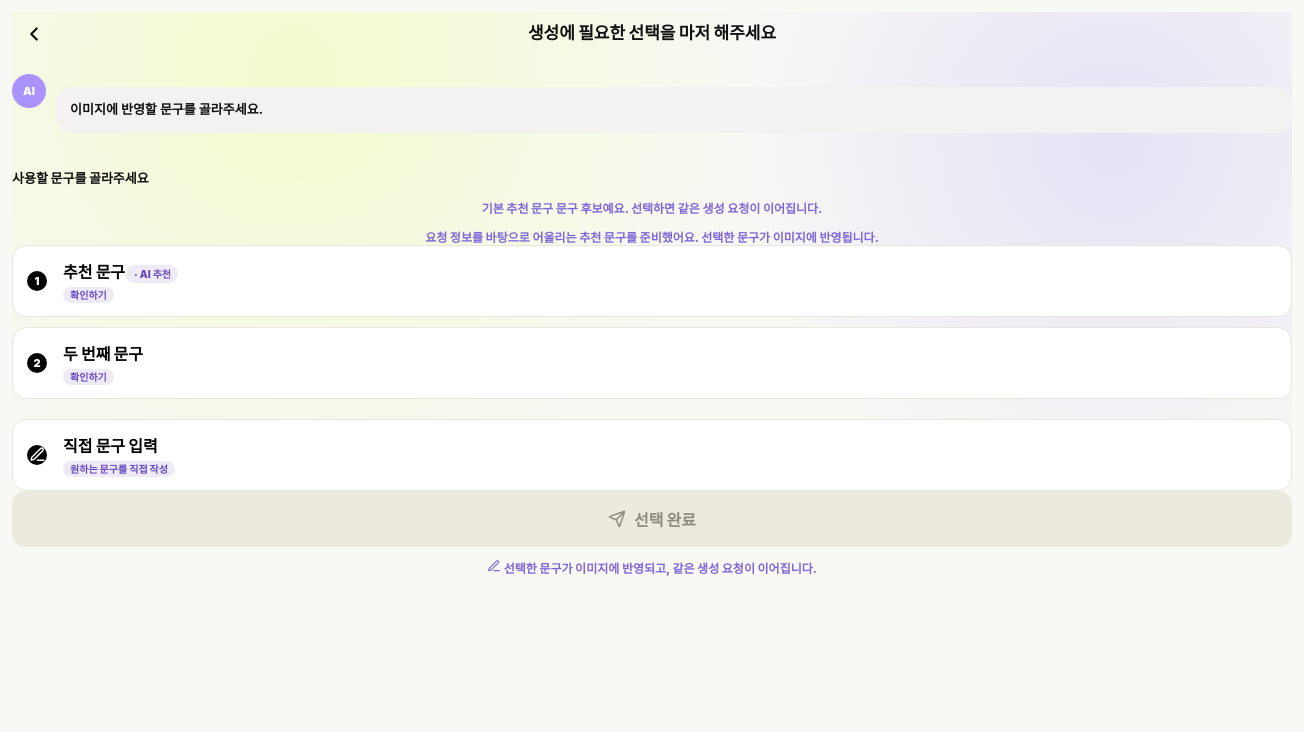
Test: GenerationJobInterruptStep › requires an explicit 선택 완료 click and does not pre-select the recommendation
Later steps or results of the test are not shown.
Check: the button "선택 완료" is disabled, box [12, 490, 1292, 546]
# Clicking a card selects locally but does not submit.
What coordinates should you click on to do the following:
click the button with aria-label "두 번째 문구 선택"
I would click on:
 (103, 354)
Its box is [12, 326, 1292, 398].
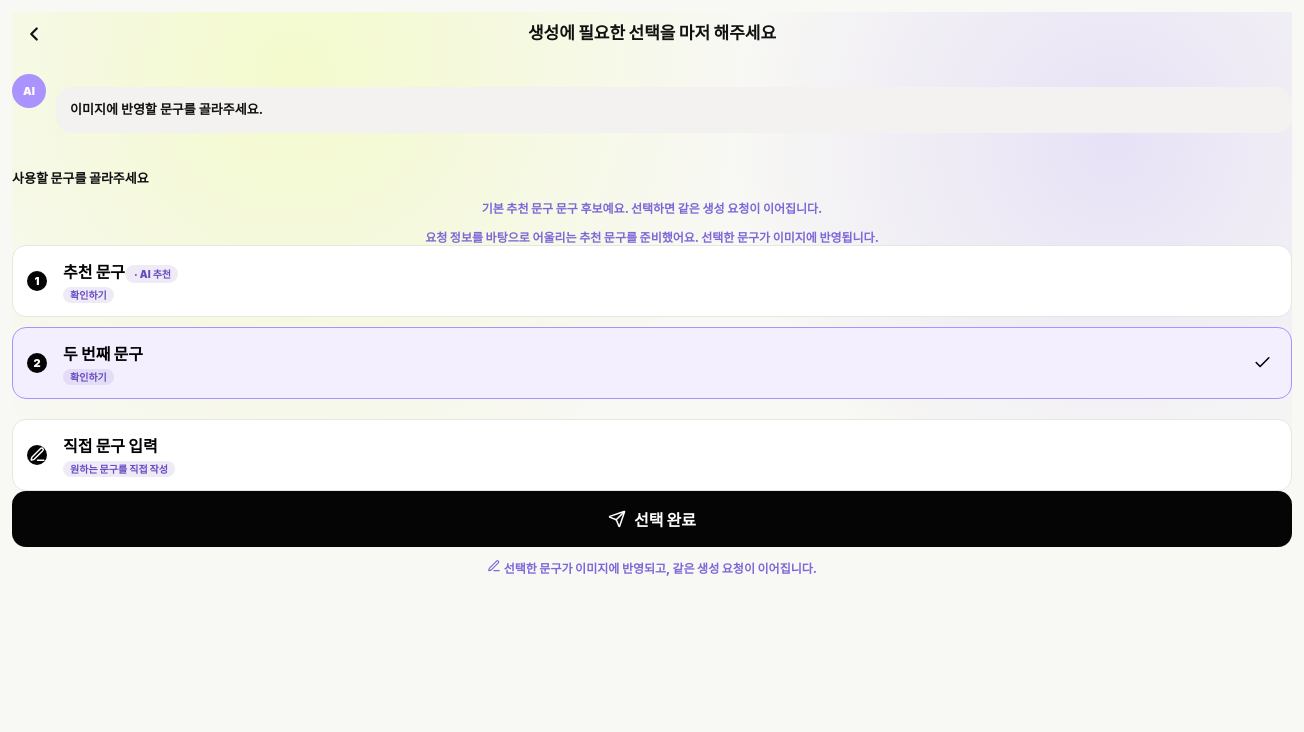
Check: the button "선택 완료" is enabled, box [12, 490, 1292, 546]
